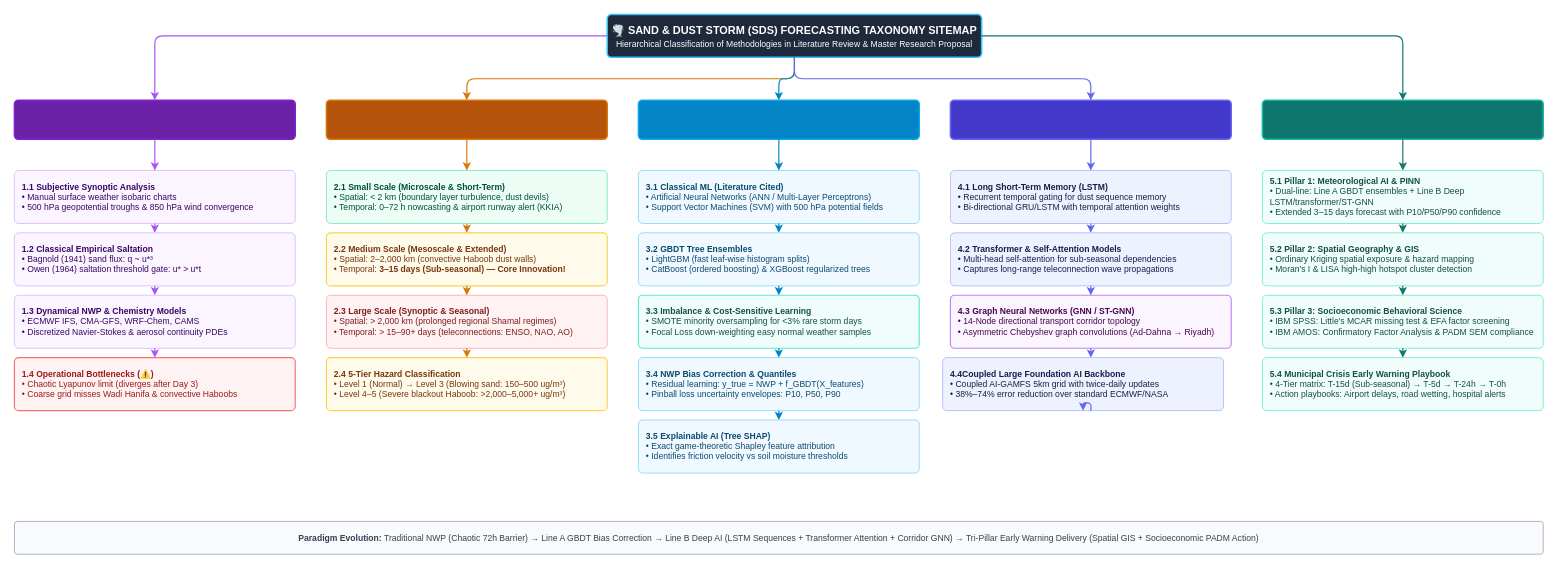
This 1557x568 diagram has some shape labels left out. The shapes that lost their labels are listed below. From the top down, each one's centre as x and y in pixels, then its label:
At (x=154, y=119): "🟣 1. TRADITIONAL METHODS Synoptic, Empirical & NWP/CTM".
At (x=466, y=119): "⚖️ 2. MULTI-SCALE SYSTEM Small, Medium & Large Scales".
At (x=778, y=119): "🔵 3. MACHINE LEARNING (LINE A) Tree Ensembles & Bias Correction".
At (x=1090, y=119): "🔮 4. DEEP LEARNING (LINE B) LSTM, Transformer & GNN Models".
At (x=1402, y=119): "🩵 5. WHAT SHE USES (TRI-PILLAR) AI (LSTM/Transformer/GNN) + GIS + SEM".
